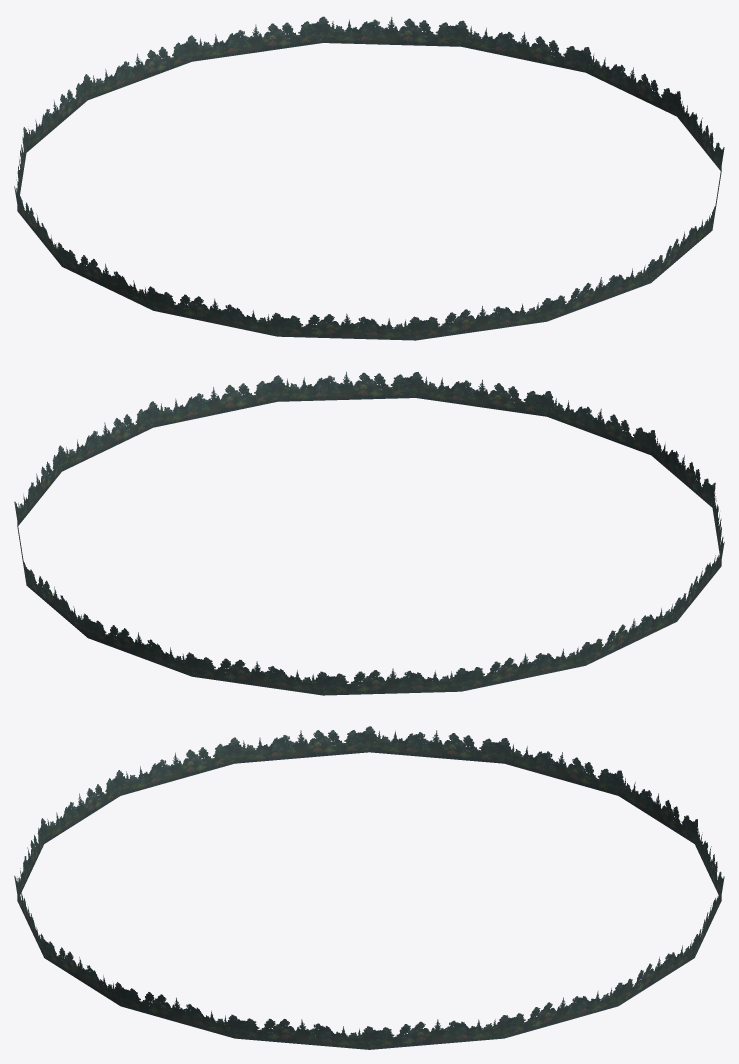
The model's file is Far1.fbx.
3 renders of one model, top to bottom at view 1: azimuth 30°, elevation 25°; view 2: azimuth 150°, elevation 25°; view 3: azimuth 270°, elevation 25°, orthographic.
Parts seen in each view (by area): view 1: SM_cmn_mount_Far_05a; view 2: SM_cmn_mount_Far_05a; view 3: SM_cmn_mount_Far_05a.
Boxes of the visible parts, left/top/right/bottom form: SM_cmn_mount_Far_05a: left=14, top=16, right=724, bottom=340; SM_cmn_mount_Far_05a: left=14, top=371, right=724, bottom=695; SM_cmn_mount_Far_05a: left=14, top=726, right=724, bottom=1049.
Bounding box in the file's own units: 41201 × 1717 × 41201.
